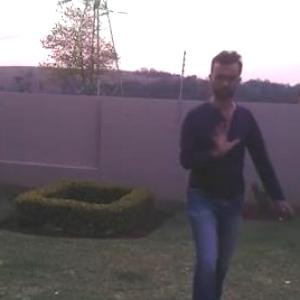follow_hand: (208, 116, 241, 154)
